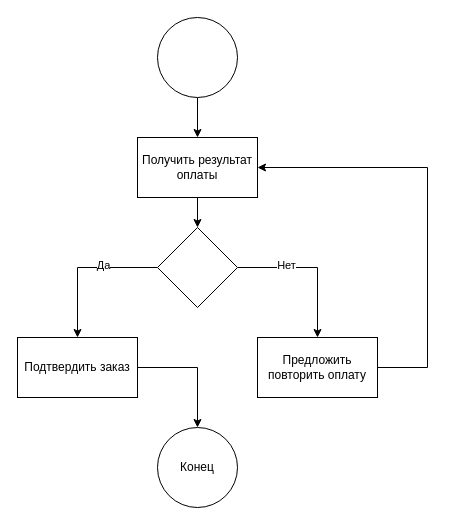
The diagram is 453 pixels wide and 525 high, and some of its shapes have lost their labels. The centre of each missing label's shape, as x and y in pixels:
Начало: (x=197, y=57)
Оплата прошла?: (x=197, y=267)
